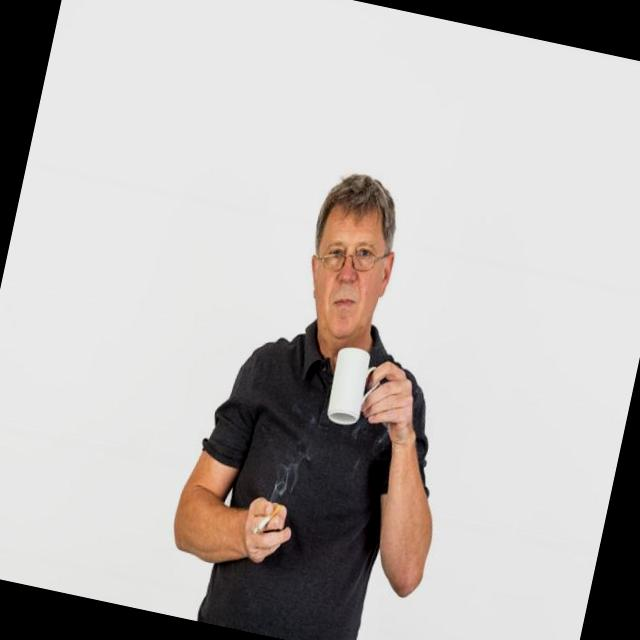cigarette: (248, 494, 281, 547)
